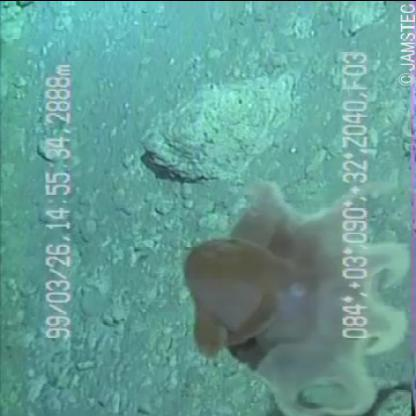Bio: (177, 173, 415, 415)
